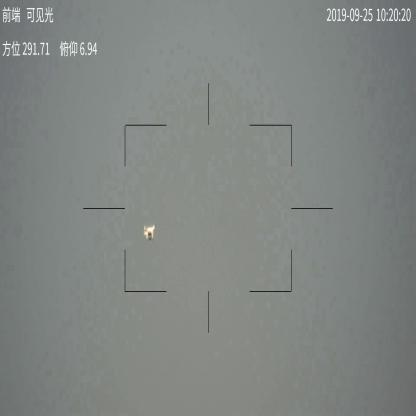uav: (142, 223, 156, 242)
